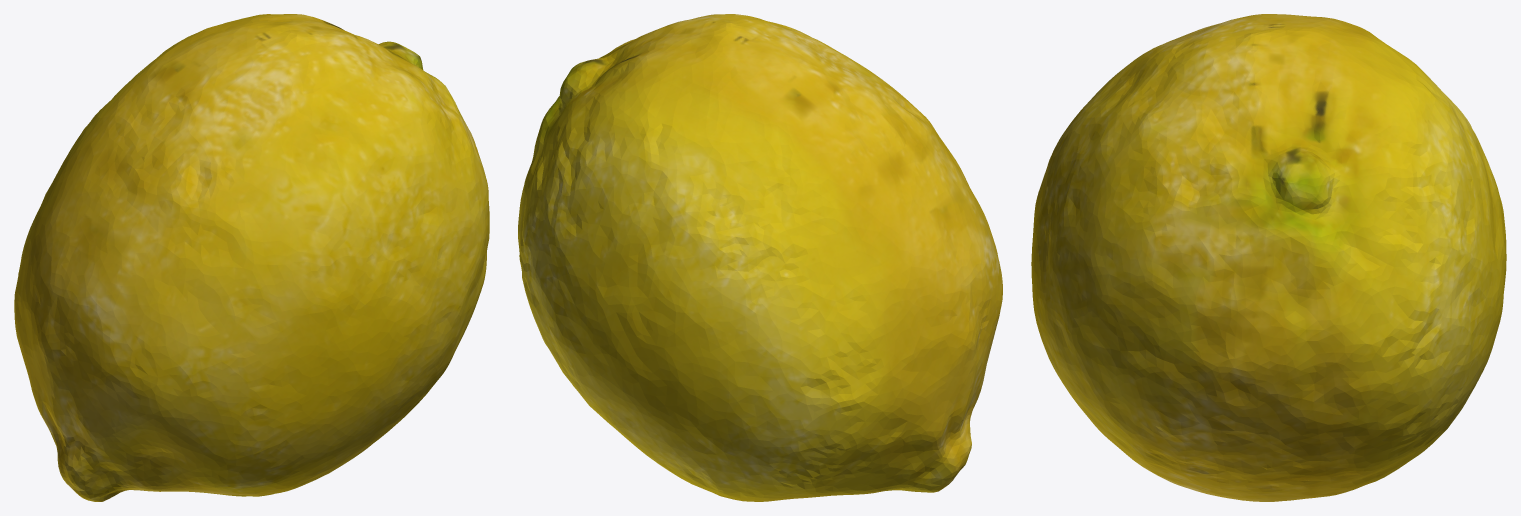
3 renders of one model, left to right at view 1: azimuth 30°, elevation 25°; view 2: azimuth 150°, elevation 25°; view 3: azimuth 270°, elevation 25°, orthographic. The views are drawn at different scales.
Visible parts, largest first — view 1: node; view 2: node; view 3: node.
Part boxes in pixels (x1=…): node: x1=14, y1=14, x2=489, y2=501; node: x1=518, y1=14, x2=1002, y2=501; node: x1=1031, y1=14, x2=1506, y2=501.
Bounding box in the file's own units: 0.0606 × 0.0593 × 0.053.
Materials: 1 (1 with a texture image).
